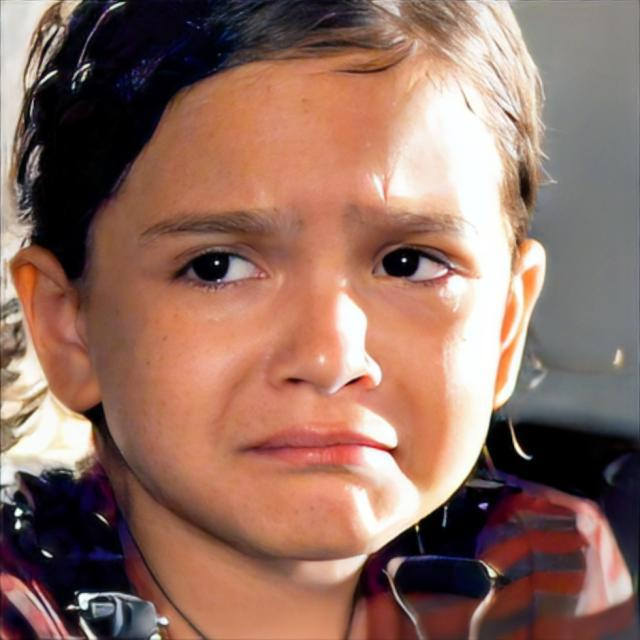sad: (83, 46, 514, 560)
